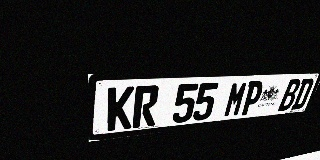5: (172, 83, 199, 124), (192, 83, 219, 121)
B: (277, 79, 302, 111)
D: (291, 78, 315, 110)
K: (107, 86, 135, 131)
M: (223, 81, 249, 118)
P: (239, 80, 265, 116)
R: (132, 85, 160, 128)
